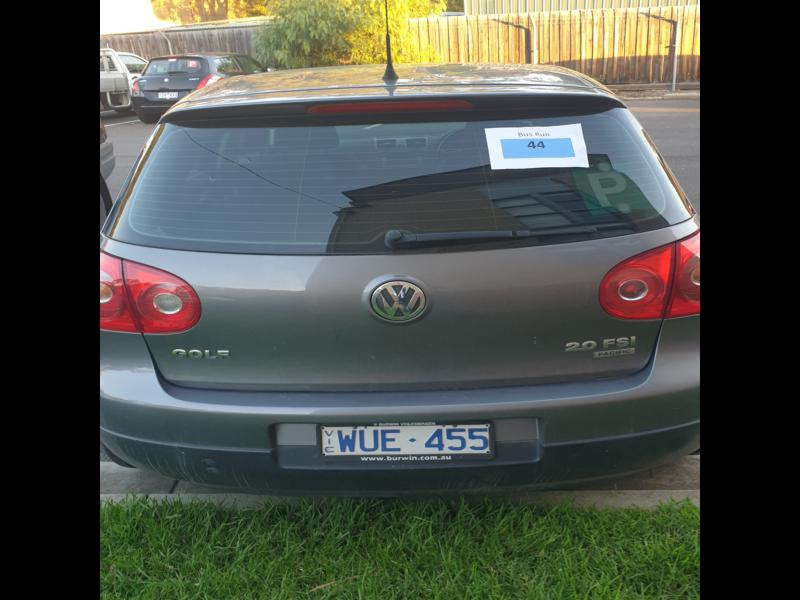BusRun: (500, 136, 578, 161)
PlateNo: (317, 424, 494, 456)
